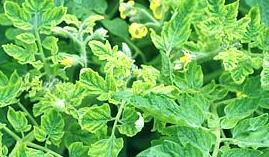Tomato leaf yellow virus: (151, 0, 199, 58), (75, 61, 111, 101), (75, 101, 114, 136), (33, 108, 68, 146), (85, 129, 128, 157), (1, 2, 35, 31), (4, 42, 42, 66), (6, 105, 31, 141), (230, 50, 255, 85), (85, 37, 121, 61), (0, 79, 29, 108), (240, 6, 263, 42), (192, 19, 231, 35), (44, 5, 72, 27), (25, 0, 54, 18), (202, 0, 227, 14)
